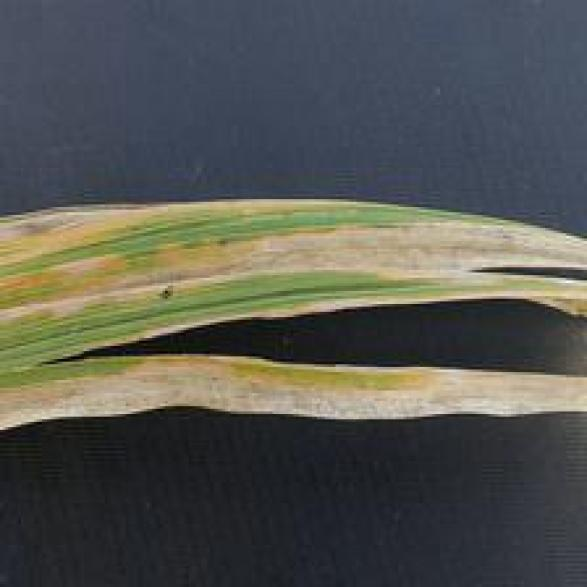Bacteria_Leaf_Blight: (3, 194, 568, 445)
